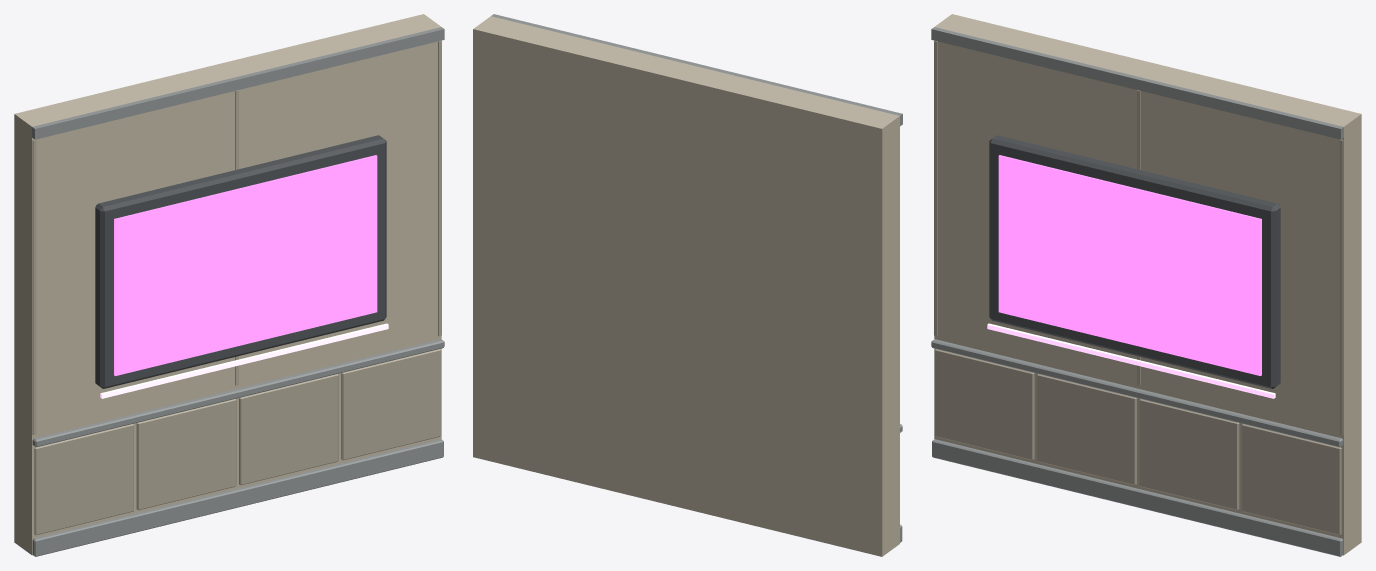
File: wall_an_ad.glb
The picture shows the model from 3 angles, left to right: view 1: azimuth 30°, elevation 25°; view 2: azimuth 150°, elevation 25°; view 3: azimuth 330°, elevation 25°; orthographic projection.
Parts seen in each view (by area): view 1: wall_an_ad; view 2: wall_an_ad; view 3: wall_an_ad.
Part boxes in pixels (x1=…): wall_an_ad: x1=14, y1=14, x2=444, y2=556; wall_an_ad: x1=473, y1=14, x2=902, y2=556; wall_an_ad: x1=931, y1=14, x2=1361, y2=556.
Size of the model in its own units: 4 by 4 by 0.46.
